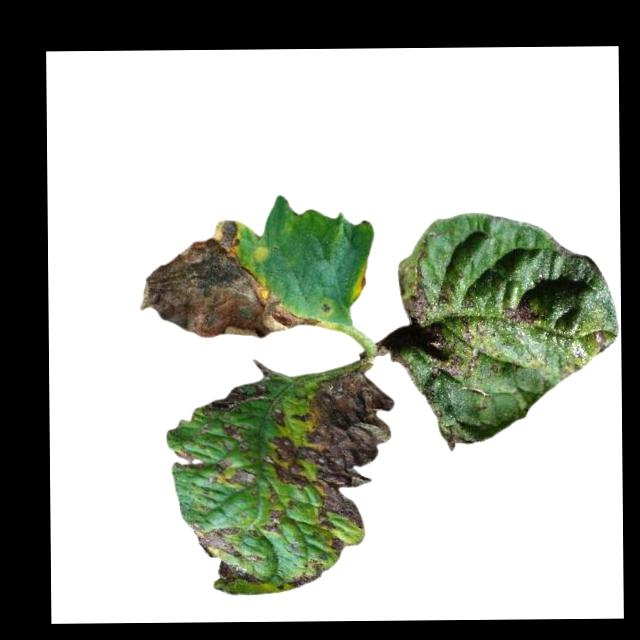Early_blight: (264, 366, 395, 530), (138, 218, 308, 342), (381, 260, 485, 392), (199, 374, 269, 451), (191, 525, 242, 559), (210, 457, 261, 486), (215, 559, 259, 583), (289, 560, 324, 587), (506, 299, 536, 325), (173, 448, 205, 470), (439, 432, 471, 452), (352, 270, 369, 299), (328, 533, 347, 556)
